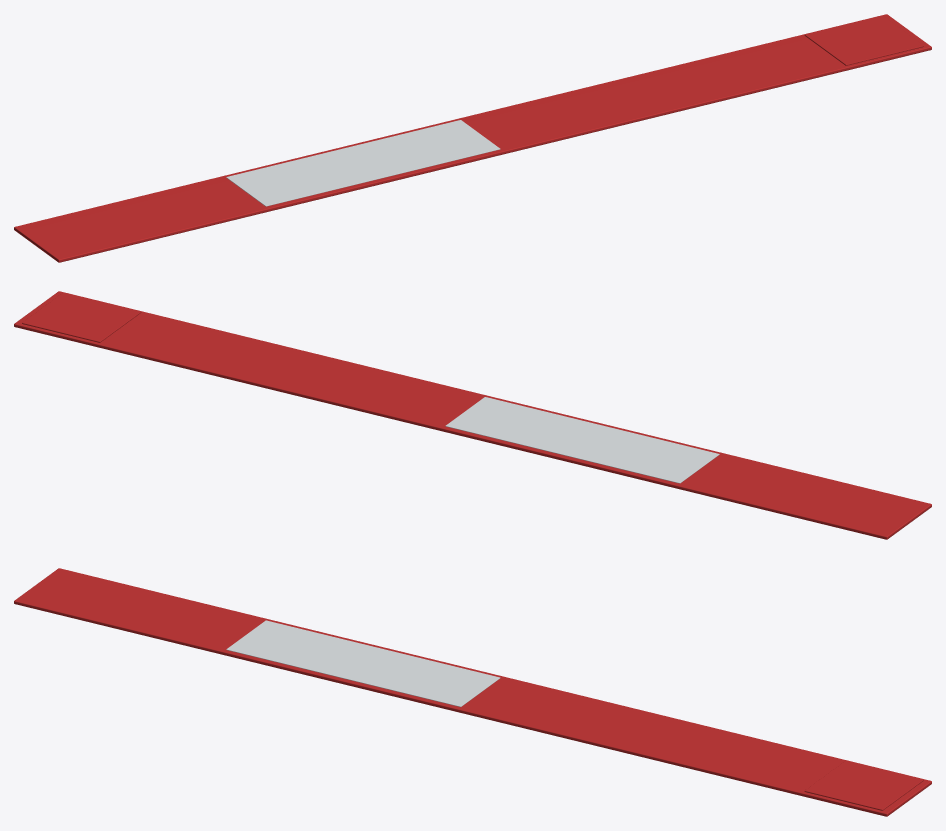
Rendered from allergy_band.fbx.
The picture shows the model from 3 angles, top to bottom: view 1: azimuth 30°, elevation 25°; view 2: azimuth 150°, elevation 25°; view 3: azimuth 330°, elevation 25°; orthographic projection.
Visible parts, largest first — view 1: EQ_allergy_band_Body, EQ_allergy_band_LabelSurface, EQ_allergy_band_AdhesiveClosure; view 2: EQ_allergy_band_Body, EQ_allergy_band_LabelSurface, EQ_allergy_band_AdhesiveClosure; view 3: EQ_allergy_band_Body, EQ_allergy_band_LabelSurface, EQ_allergy_band_AdhesiveClosure.
Part boxes in pixels (<box>): EQ_allergy_band_Body: <box>14,14,931,262</box>; EQ_allergy_band_LabelSurface: <box>226,120,500,206</box>; EQ_allergy_band_AdhesiveClosure: <box>804,15,923,65</box>; EQ_allergy_band_Body: <box>14,291,931,539</box>; EQ_allergy_band_LabelSurface: <box>445,397,719,483</box>; EQ_allergy_band_AdhesiveClosure: <box>22,292,141,342</box>; EQ_allergy_band_Body: <box>14,568,931,816</box>; EQ_allergy_band_LabelSurface: <box>226,620,500,706</box>; EQ_allergy_band_AdhesiveClosure: <box>804,760,923,810</box>.
Bounding box in the file's own units: 0.279 × 0.0014 × 0.025.
